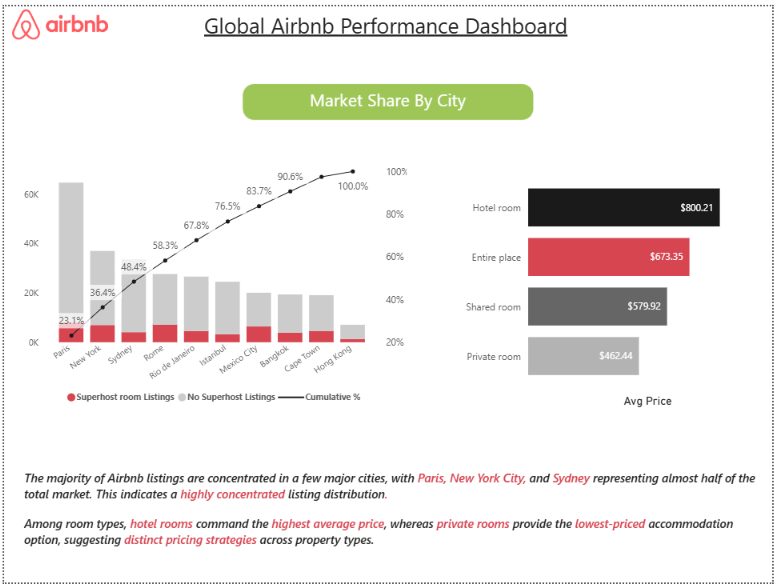

What the dashboard file says about the page in this screenshot:
{"tool":"powerbi","page":{"name":"Market share","canvas":[960,720],"ordinal":1},"visuals":[{"type":"textbox","box":[244.6,0,470.8,84.4],"z":0},{"type":"image","box":[10.5,4.2,119.8,37.8],"z":1000},{"type":"textbox","box":[297.8,96.7,364.4,46.7],"z":2000},{"type":"textbox","box":[20,573.3,940,128.3],"z":3000},{"type":"lineStackedColumnComboChart","fields":{"Category":["Private room.city"],"Y":["Private room.Superhost room Listings","Private room.No Superhost Listings"],"Y2":["Private room.Cumulative %"]},"box":[20,190,488.3,316.7],"z":4000},{"type":"barChart","fields":{"Category":["Private room.room_type"],"Y":["Private room.Avg Price"]},"box":[566.7,190,393.3,316.7],"z":5000}]}

Visuals, with their boxes in screenshot pixels (x1, y1, x2, y2), scaled from the page's 960x720 canvas onto the 778x588 screenshot:
textbox: [198,0,580,69]
image: [9,3,106,34]
textbox: [241,79,537,117]
textbox: [16,468,777,573]
lineStackedColumnComboChart - Private room.city x Private room.Superhost room Listings: [16,155,412,414]
barChart - Private room.room_type x Private room.Avg Price: [459,155,777,414]
